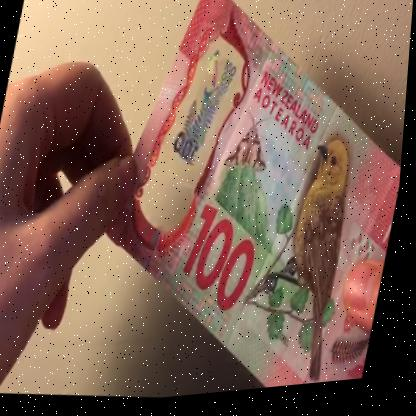100B: (168, 43, 247, 191)
